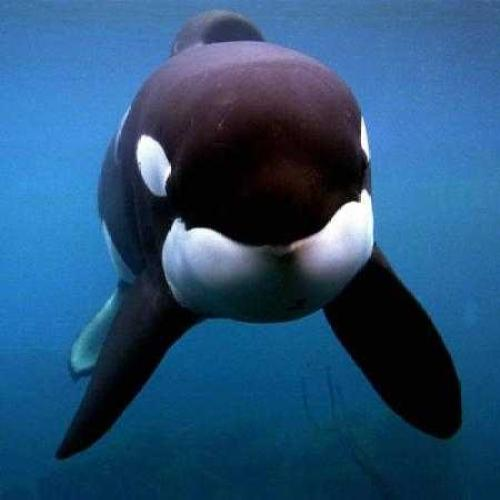killer_whale-endangered: (32, 13, 479, 436)
